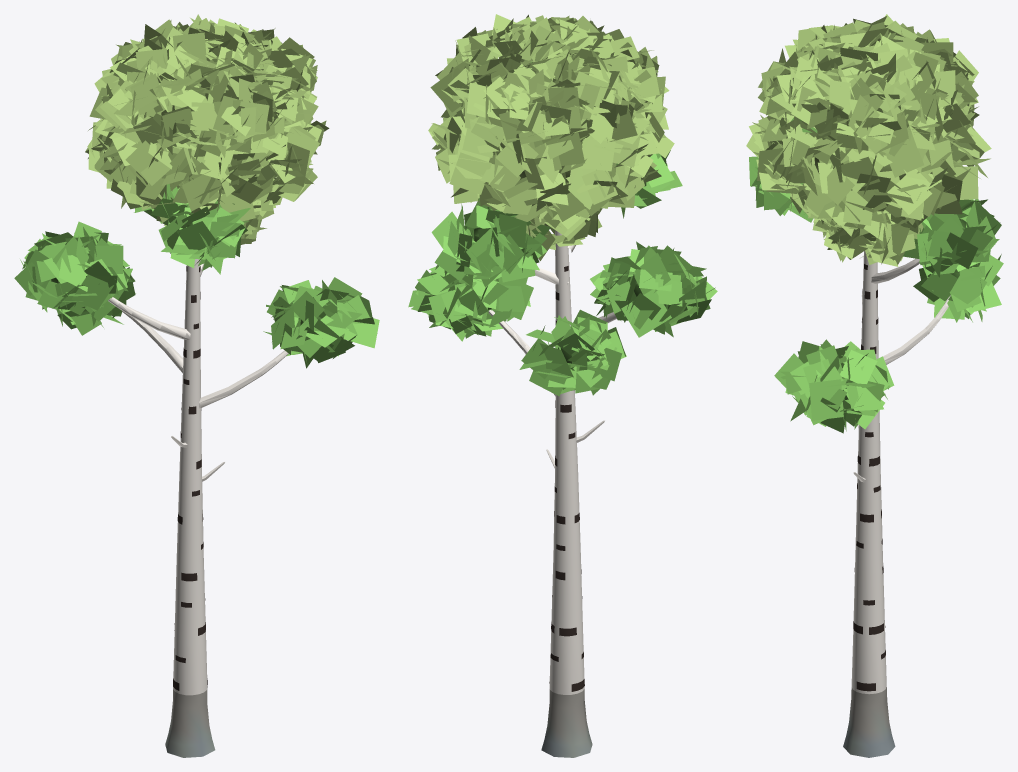
Rendered from birchHD.glb.
3 renders of one model, left to right at view 1: azimuth 30°, elevation 25°; view 2: azimuth 150°, elevation 25°; view 3: azimuth 270°, elevation 25°, orthographic.
Size of the model in its own units: 3.01 by 6.49 by 2.1.
